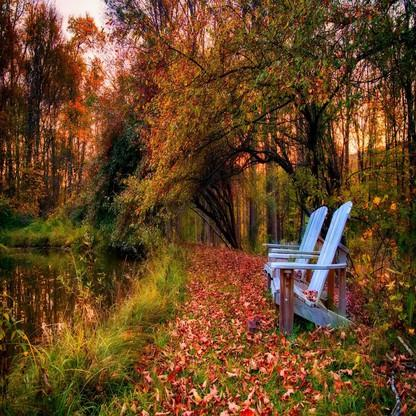obstacle: (269, 208, 363, 340)
